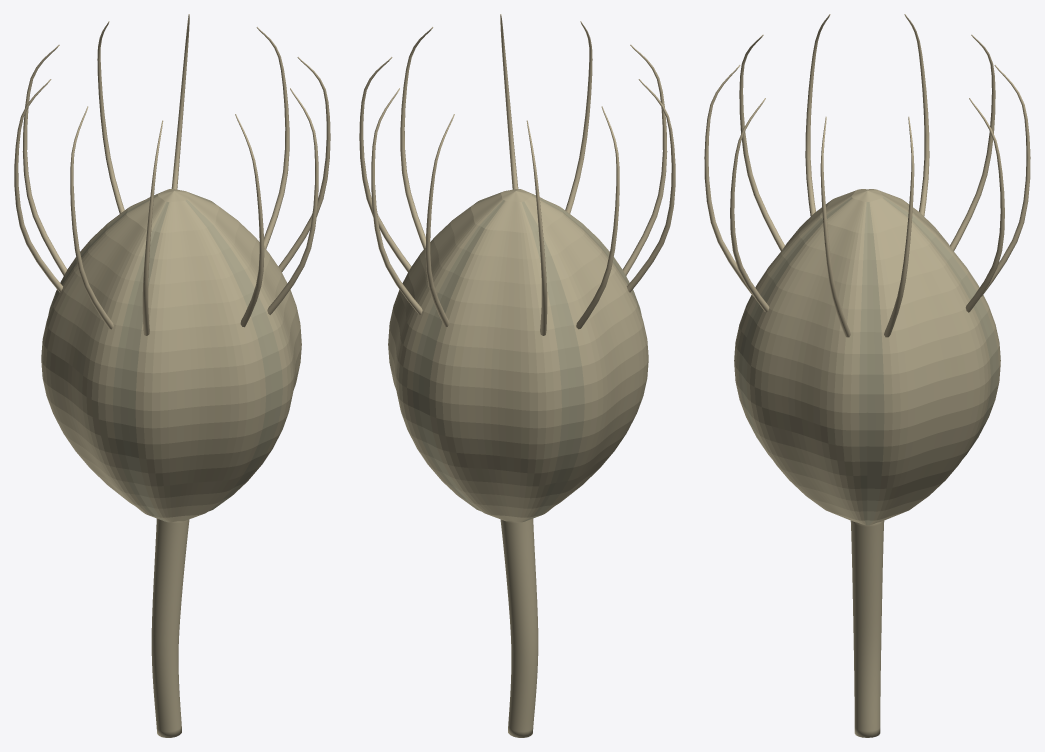
The model's file is pentremites.glb.
The picture shows the model from 3 angles, left to right: view 1: azimuth 30°, elevation 25°; view 2: azimuth 150°, elevation 25°; view 3: azimuth 270°, elevation 25°; orthographic projection.
Visible parts, largest first — view 1: five-rayed-bud-theca-with-physical-petaloid-longitudinal-foo, restrained-fine-brachioles-open-around-food-grooves-not-clos, short-stalk-naturally-seated-under-bud; view 2: five-rayed-bud-theca-with-physical-petaloid-longitudinal-foo, restrained-fine-brachioles-open-around-food-grooves-not-clos, short-stalk-naturally-seated-under-bud; view 3: five-rayed-bud-theca-with-physical-petaloid-longitudinal-foo, restrained-fine-brachioles-open-around-food-grooves-not-clos, short-stalk-naturally-seated-under-bud.
Boxes of the visible parts, box(x1,y1,x2,y2) form: five-rayed-bud-theca-with-physical-petaloid-longitudinal-foo: box(41, 189, 301, 522); restrained-fine-brachioles-open-around-food-grooves-not-clos: box(14, 14, 330, 335); short-stalk-naturally-seated-under-bud: box(151, 518, 189, 737); five-rayed-bud-theca-with-physical-petaloid-longitudinal-foo: box(388, 189, 648, 522); restrained-fine-brachioles-open-around-food-grooves-not-clos: box(359, 14, 675, 335); short-stalk-naturally-seated-under-bud: box(500, 518, 538, 737); five-rayed-bud-theca-with-physical-petaloid-longitudinal-foo: box(734, 189, 1000, 525); restrained-fine-brachioles-open-around-food-grooves-not-clos: box(704, 14, 1030, 337); short-stalk-naturally-seated-under-bud: box(850, 521, 884, 737).
Size of the model in its own units: 0.0671 by 0.16 by 0.0705.
